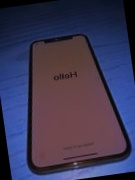iphone: (9, 29, 128, 174)
